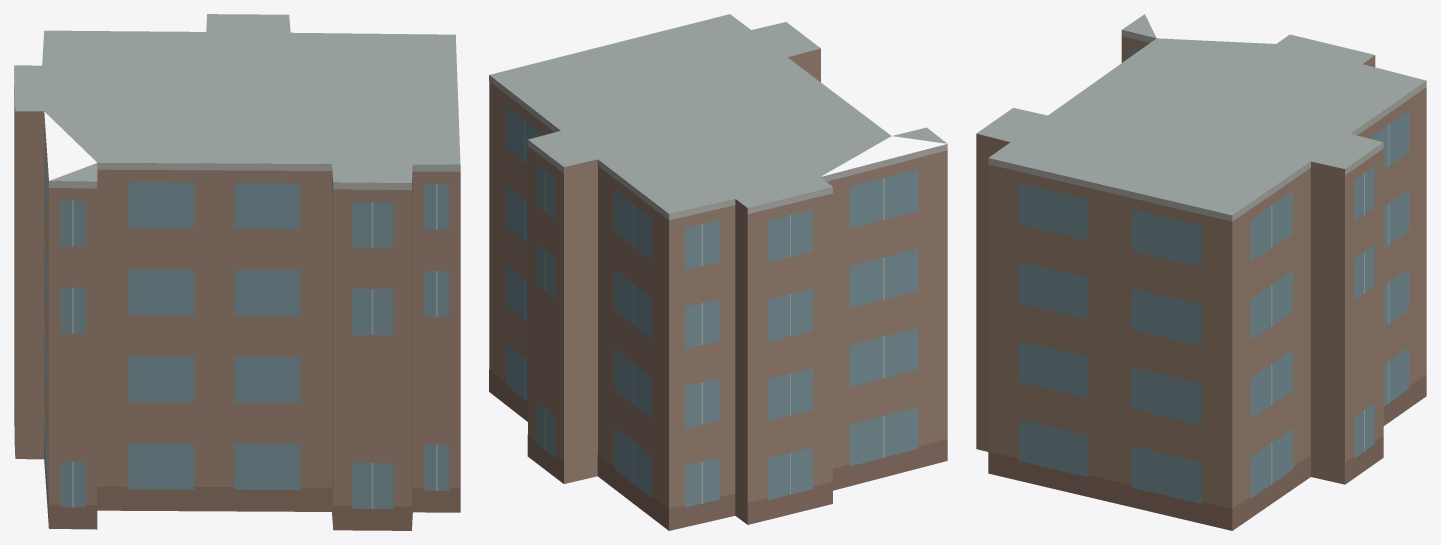
The model's file is survey-upis-32706589.glb.
The picture shows the model from 3 angles, left to right: view 1: azimuth 30°, elevation 25°; view 2: azimuth 150°, elevation 25°; view 3: azimuth 270°, elevation 25°; orthographic projection. The views are drawn at different scales.
Parts seen in each view (by area): view 1: survey-upis-32706589.tmp; view 2: survey-upis-32706589.tmp; view 3: survey-upis-32706589.tmp.
Part boxes in pixels (x1,y1,x2,y2): survey-upis-32706589.tmp: [14, 14, 460, 530]; survey-upis-32706589.tmp: [489, 14, 947, 530]; survey-upis-32706589.tmp: [976, 14, 1426, 530].
Size of the model in its own units: 16.71 by 12.2 by 15.79.
